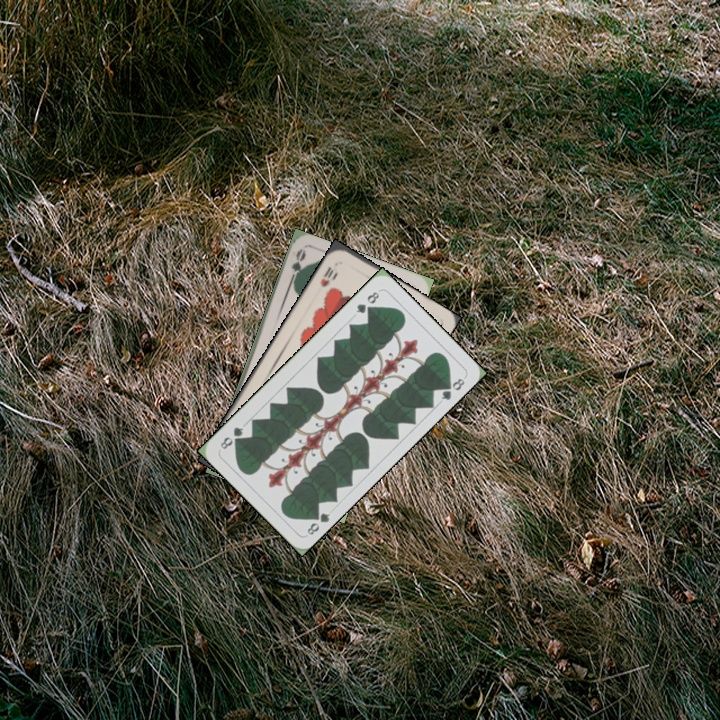G8: (303, 506, 333, 538), (352, 287, 382, 316)
GO: (286, 246, 308, 286)
H10: (316, 262, 336, 290)
